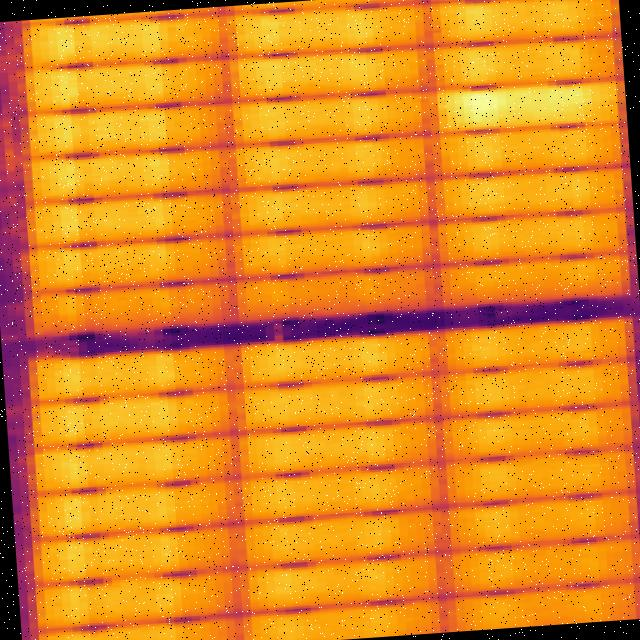Hotspot: (432, 76, 626, 131)
